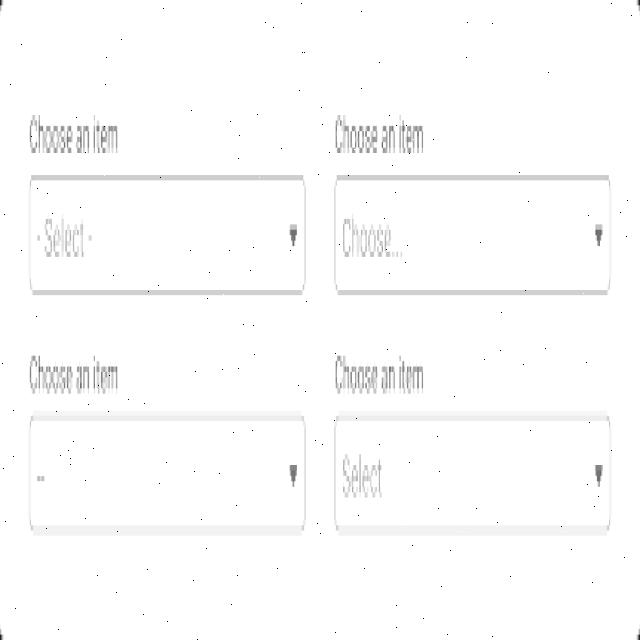dropdownMenu: (334, 410, 614, 536), (26, 409, 306, 534), (332, 174, 614, 294), (31, 174, 308, 296)
label: (325, 347, 434, 400), (22, 108, 126, 159), (20, 348, 124, 399), (330, 111, 427, 159)
